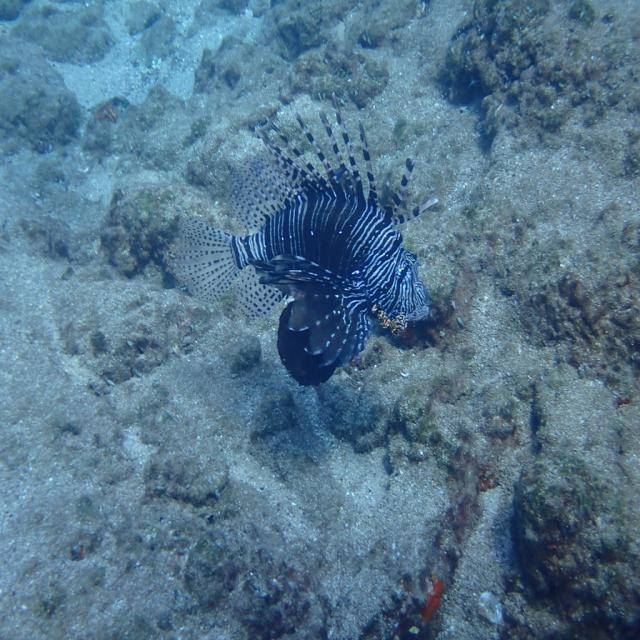Aslan Baligi: (165, 90, 438, 388)
